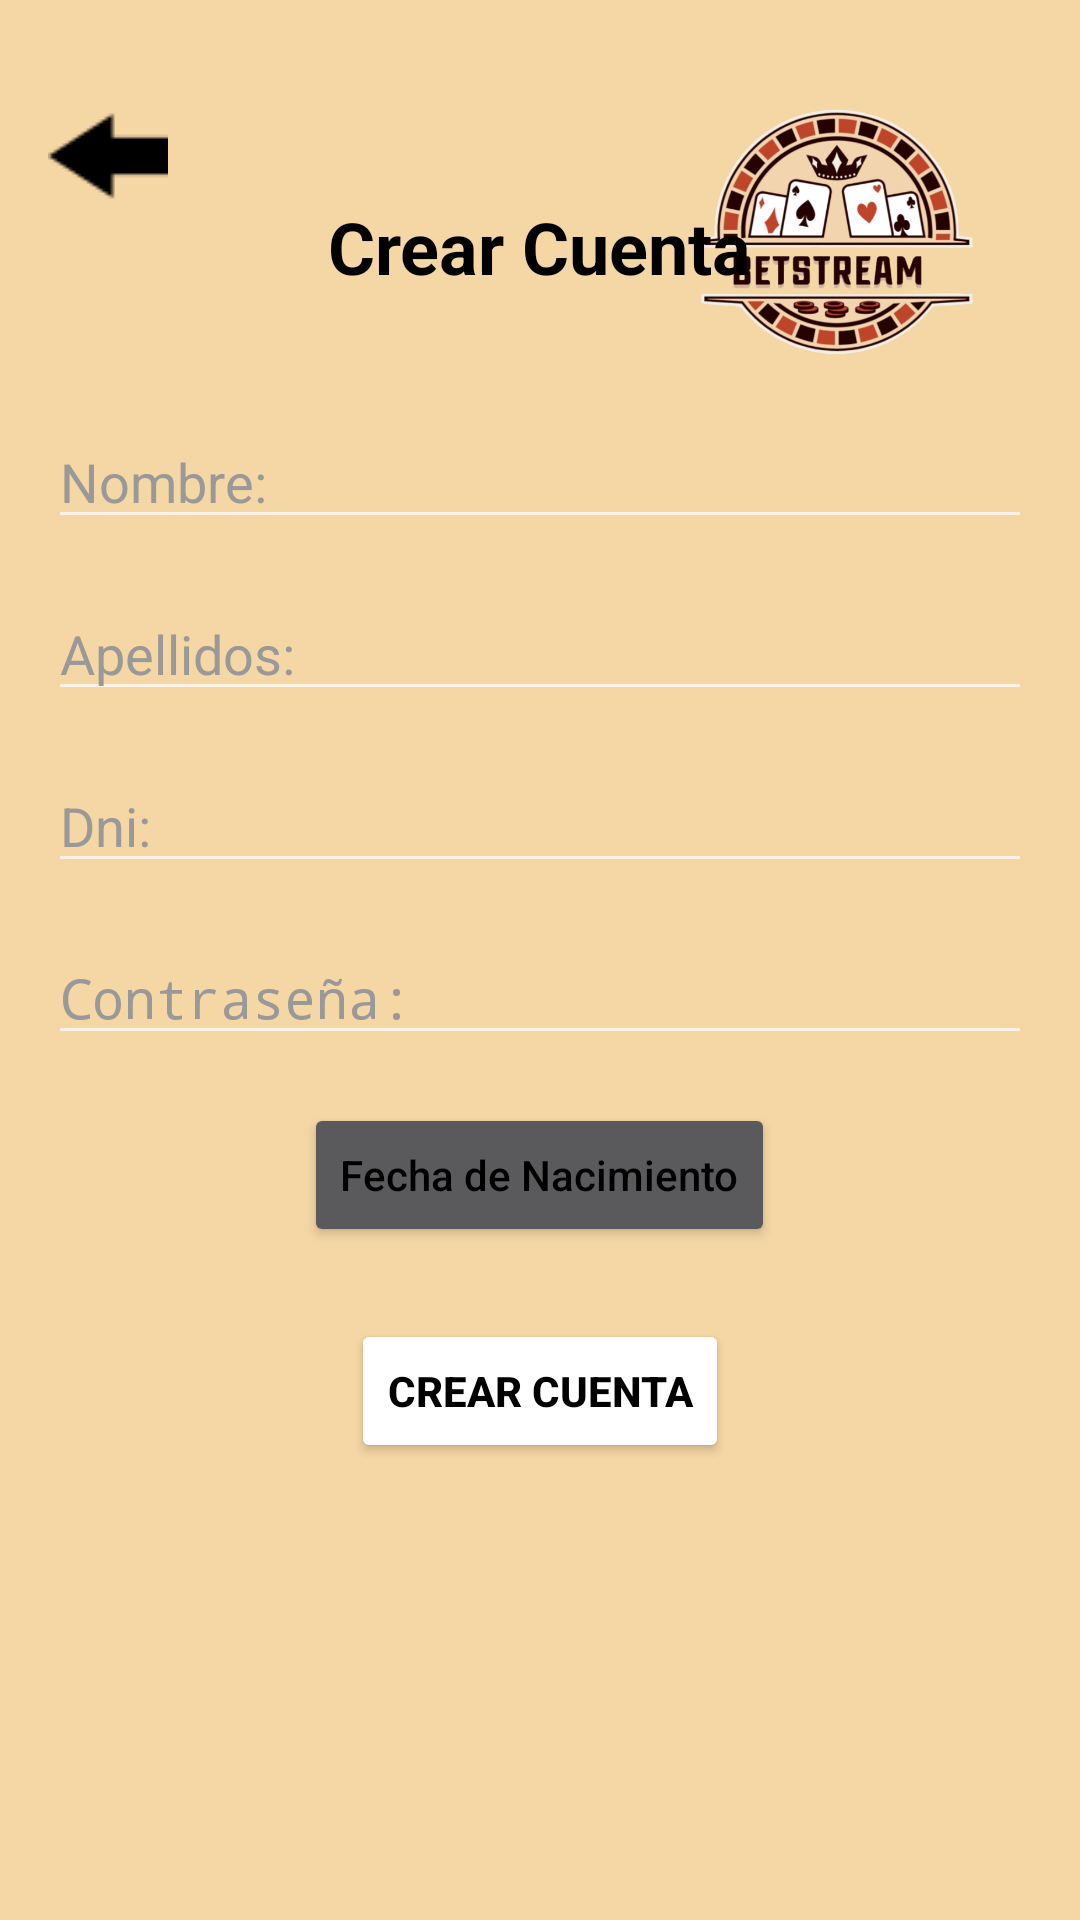

Locate icon controls on the screen. Image size 1080 × 1920, boxes as (x1, y1, x2, y2).
back arrow: (48, 113, 168, 199)
